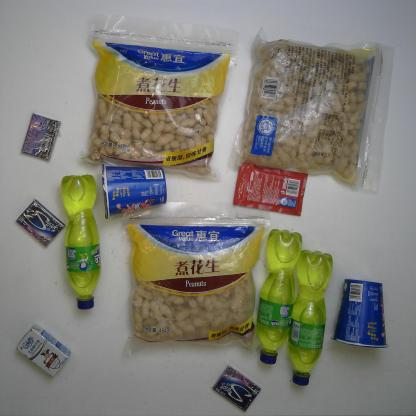Dessert: (331, 279, 390, 349), (100, 162, 168, 220)
Dried Food: (82, 16, 232, 182), (233, 30, 387, 190), (122, 205, 269, 356)
Drink: (288, 249, 334, 387), (256, 229, 302, 365), (60, 173, 102, 310)
Gum: (211, 363, 262, 412), (14, 199, 66, 247), (19, 112, 62, 162)
Milk: (15, 324, 70, 378)
Seasoner: (231, 160, 309, 217)
